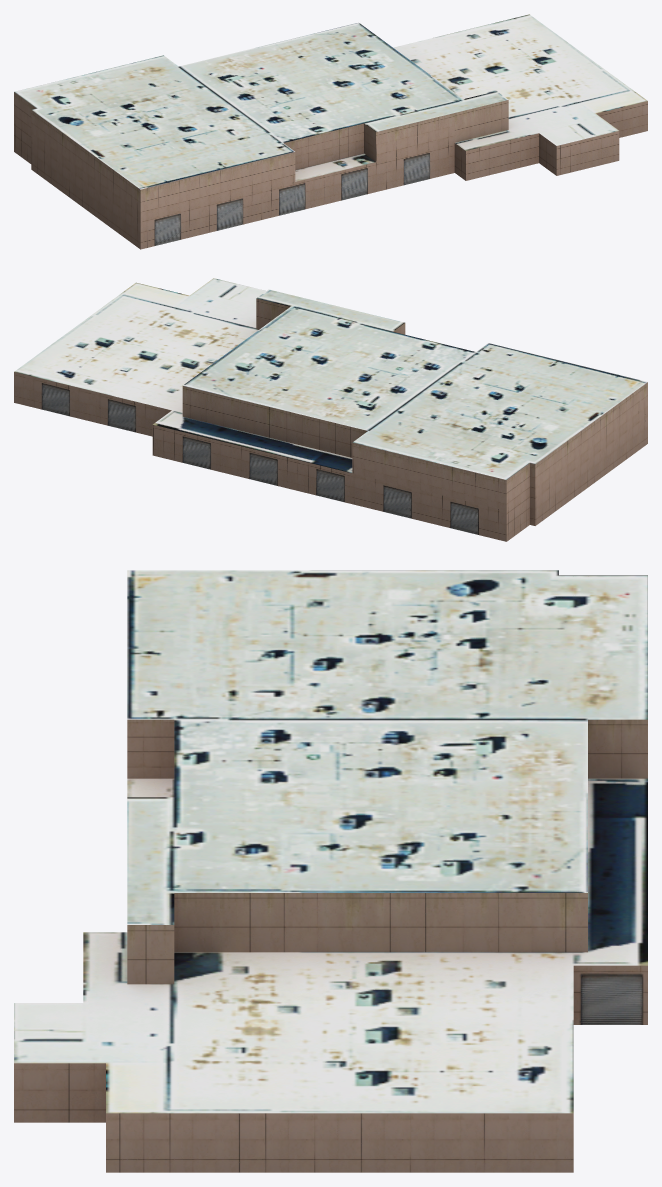
File: Building11.gltf
The picture shows the model from 3 angles, top to bottom: view 1: azimuth 30°, elevation 25°; view 2: azimuth 150°, elevation 25°; view 3: azimuth 270°, elevation 25°; orthographic projection. The views are drawn at different scales.
Visible parts, largest first — view 1: Building11; view 2: Building11; view 3: Building11.
Part boxes in pixels (left/top/right/bottom): Building11: left=14, top=14, right=647, bottom=249; Building11: left=14, top=278, right=647, bottom=541; Building11: left=14, top=570, right=647, bottom=1172.
Size of the model in its own units: 87.64 by 10 by 48.52.
Materials: 1 (1 with a texture image).
